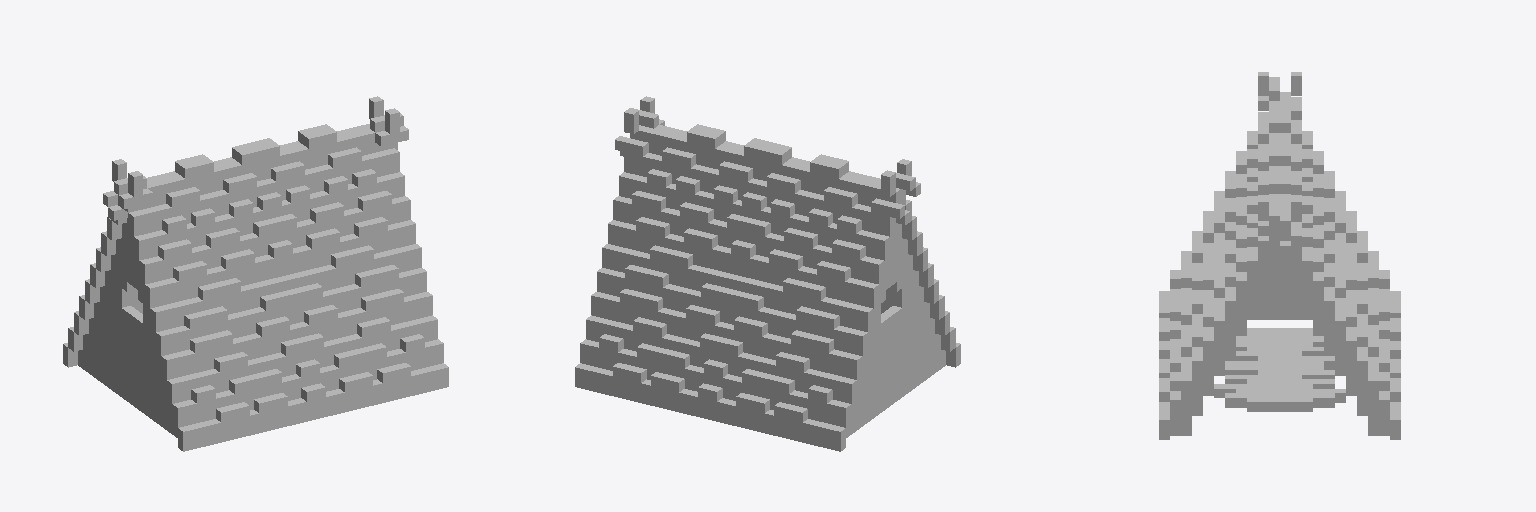
File: tent-0.obj
The picture shows the model from 3 angles: view 1: azimuth 30°, elevation 25°; view 2: azimuth 150°, elevation 25°; view 3: azimuth 270°, elevation 25°; orthographic projection.
Visible parts, largest first — view 1: object 1; view 2: object 1; view 3: object 1.
Boxes of the visible parts, box(x1,y1,x2,y2) form: object 1: box(63, 96, 448, 451); object 1: box(575, 96, 960, 451); object 1: box(1159, 72, 1400, 439).
Size of the model in its own units: 3 by 2.4 by 2.2.